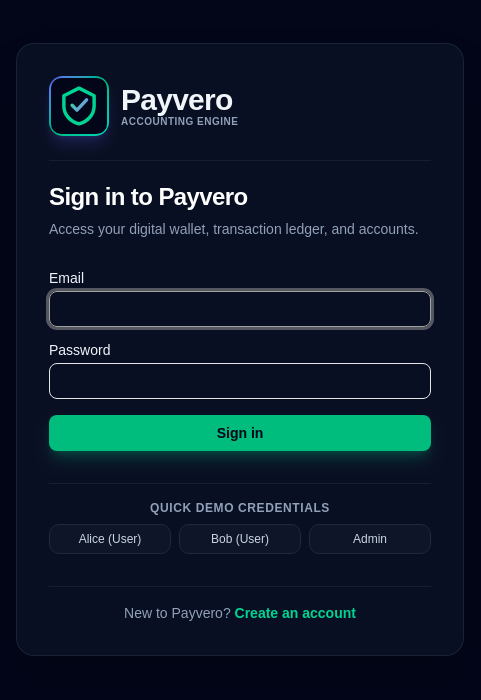
Test case: errors that name no field › surfaces INVALID_CREDENTIALS as a form-level alert
Type "alice@payvero.dev" into the field labelled "Email".
click(240, 308); type("alice@payvero.dev")  # box [49,290,431,326]
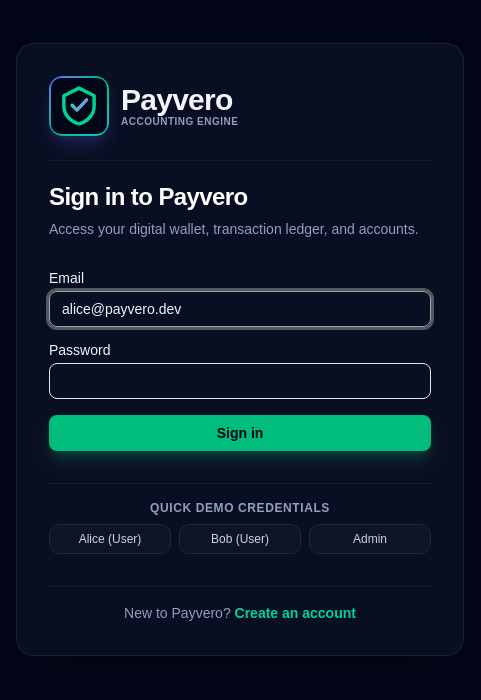
Type "demo-password-123" into the password field labelled "Password".
click(240, 380); type("demo-password-123")  # box [49,362,431,398]
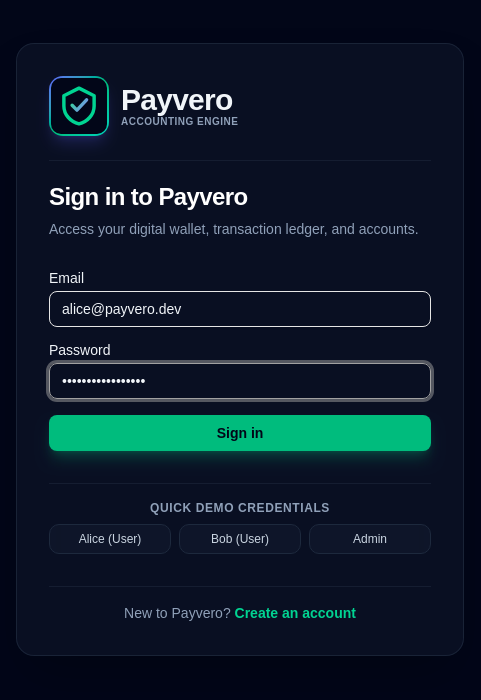
Click the button "Sign in".
click(240, 432)  # box [49,414,431,450]
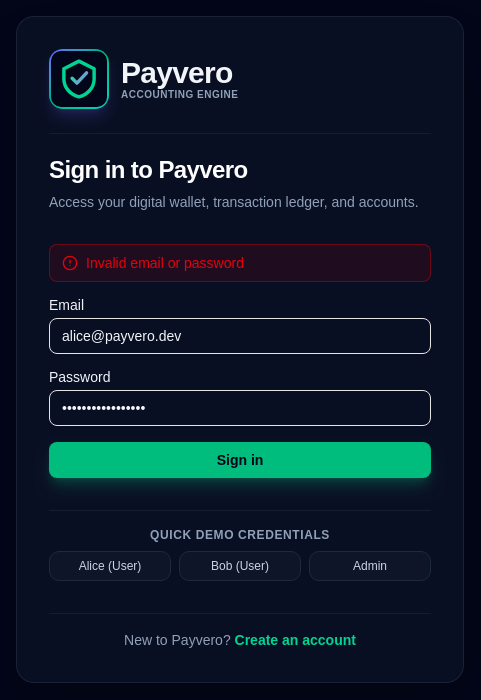
Now the message reads "Invalid email or password", box [86,254,244,270]
